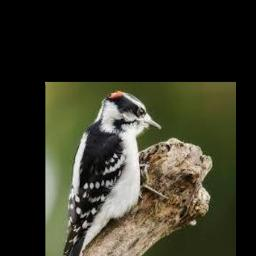Woodpecker: (50, 90, 170, 256)
